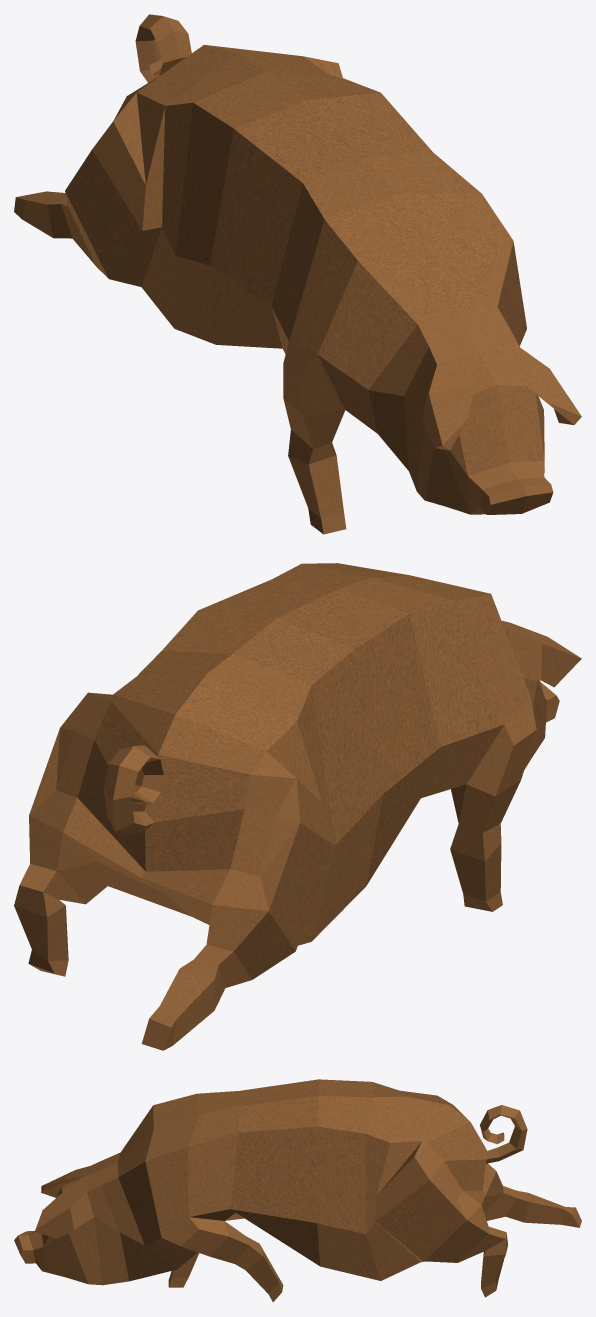
File: Pig_000020.obj
3 views of the same model, one above another, from view 1: azimuth 30°, elevation 25°; view 2: azimuth 150°, elevation 25°; view 3: azimuth 270°, elevation 25° (orthographic). The views are drawn at different scales.
Parts seen in each view (by area): view 1: Pig_Cylinder; view 2: Pig_Cylinder; view 3: Pig_Cylinder.
Part boxes in pixels (bbox=[...]): Pig_Cylinder: bbox=[14, 14, 581, 534]; Pig_Cylinder: bbox=[14, 563, 581, 1050]; Pig_Cylinder: bbox=[14, 1079, 581, 1301].
Bounding box in the file's own units: 3.4 × 4.36 × 10.4.
Materials: 1 (1 with a texture image).
